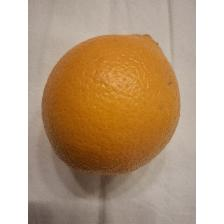Mandarine: (40, 27, 182, 183)
